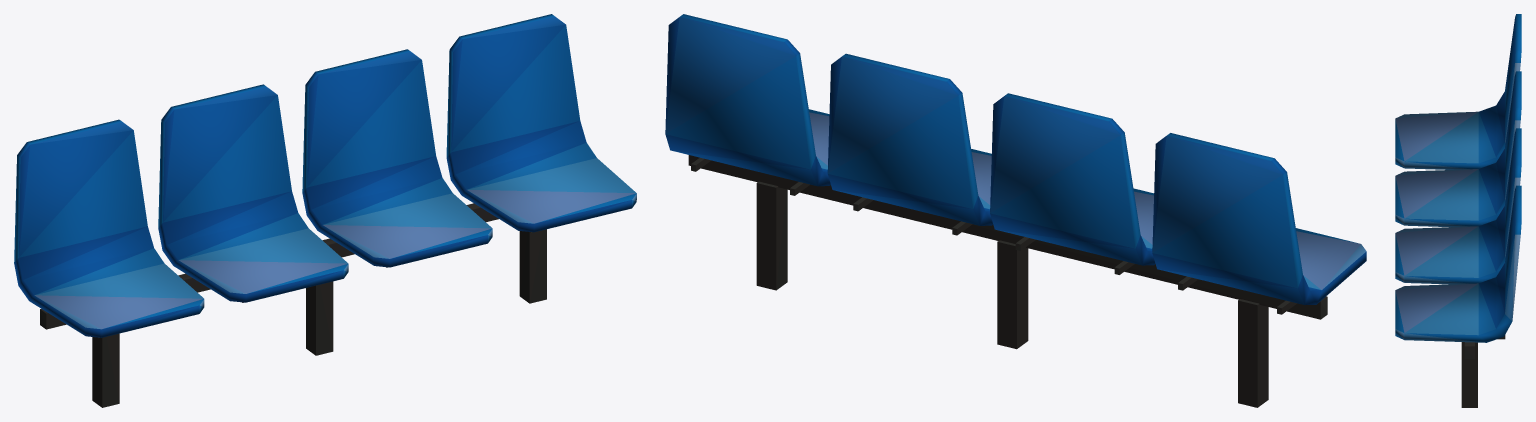
Rendered from mt_bench.glb.
The picture shows the model from 3 angles, left to right: view 1: azimuth 30°, elevation 25°; view 2: azimuth 150°, elevation 25°; view 3: azimuth 270°, elevation 25°; orthographic projection. The views are drawn at different scales.
Visible parts, largest first — view 1: Chair; view 2: Chair; view 3: Chair.
Part boxes in pixels (x1,y1,x2,y2): Chair: (14, 14, 636, 407); Chair: (665, 14, 1366, 407); Chair: (1395, 14, 1521, 407).
Bounding box in the file's own units: 1.93 × 0.8107 × 0.4591.
